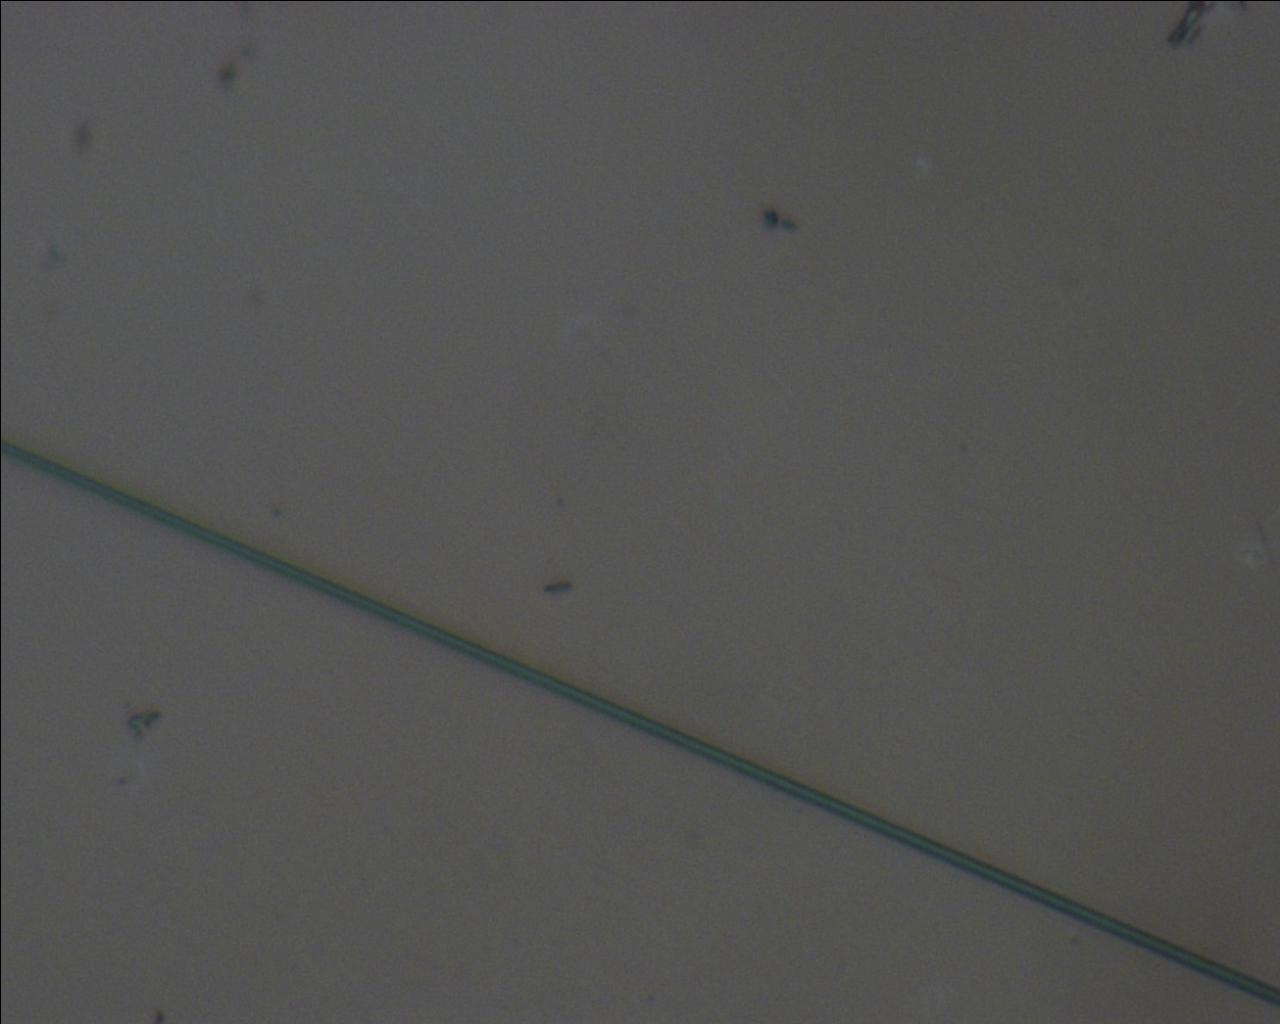fiber: (601, 29, 1280, 274), (0, 277, 601, 406), (0, 609, 601, 730), (601, 852, 1157, 966)
